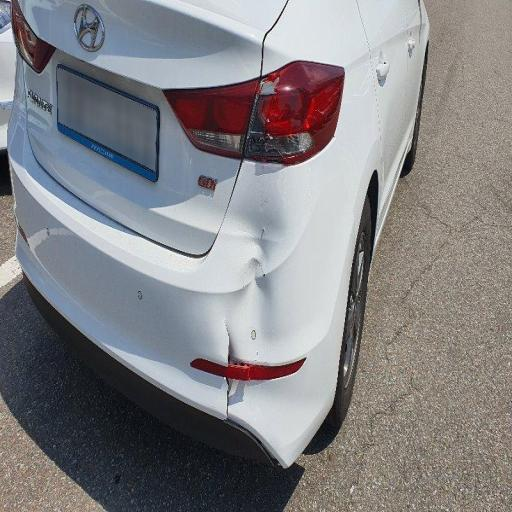broken: (79, 76, 353, 480)
